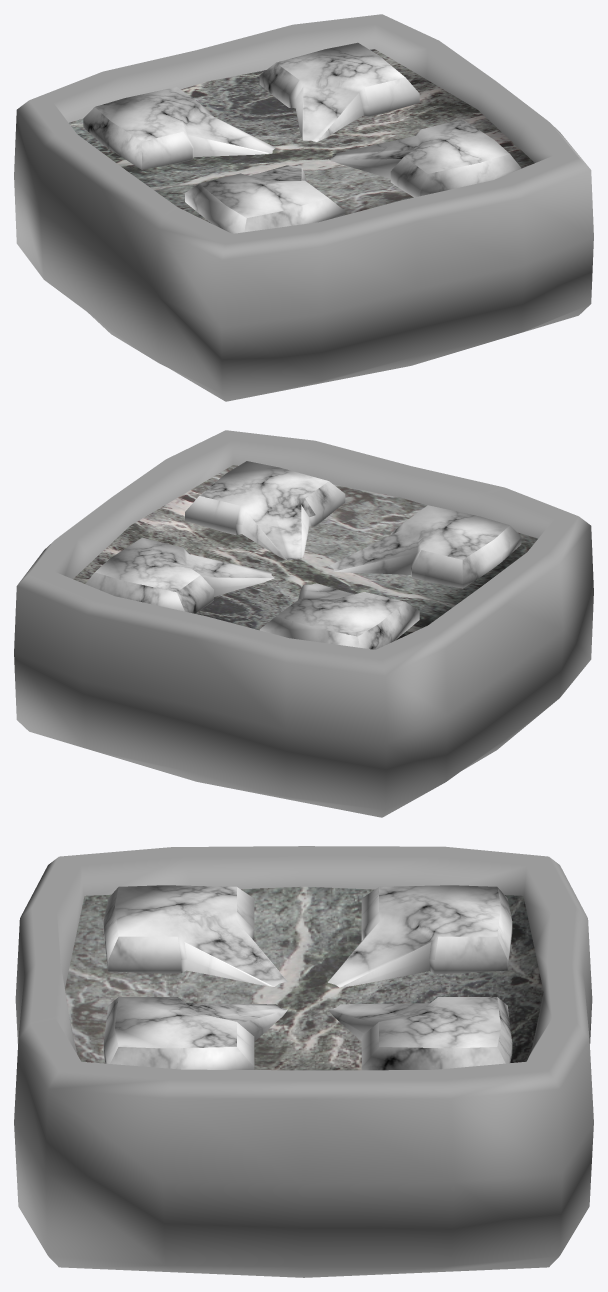
The model's file is x_piece.fbx.
3 views of the same model, one above another, from view 1: azimuth 30°, elevation 25°; view 2: azimuth 150°, elevation 25°; view 3: azimuth 270°, elevation 25° (orthographic). The views are drawn at different scales.
Parts seen in each view (by area): view 1: polySurface11, polySurface12, polySurface8, polySurface9, polySurface10, polySurface7; view 2: polySurface11, polySurface12, polySurface10, polySurface7, polySurface8, polySurface9; view 3: polySurface11, polySurface12, polySurface9, polySurface7, polySurface8, polySurface10.
Boxes of the visible parts, <box> form: polySurface11: <box>14,14,593,401</box>; polySurface12: <box>69,49,534,223</box>; polySurface8: <box>259,42,419,141</box>; polySurface9: <box>83,87,275,169</box>; polySurface10: <box>329,119,521,197</box>; polySurface7: <box>185,165,345,233</box>; polySurface11: <box>14,430,593,817</box>; polySurface12: <box>73,465,537,640</box>; polySurface10: <box>185,461,345,560</box>; polySurface7: <box>330,505,521,588</box>; polySurface8: <box>85,537,274,613</box>; polySurface9: <box>259,583,419,649</box>; polySurface11: <box>14,846,593,1277</box>; polySurface12: <box>65,886,543,1070</box>; polySurface9: <box>328,885,512,987</box>; polySurface7: <box>103,885,287,986</box>; polySurface8: <box>328,997,512,1070</box>; polySurface10: <box>103,997,287,1069</box>.
Bounding box in the file's own units: 11.98 × 4.59 × 11.86.
